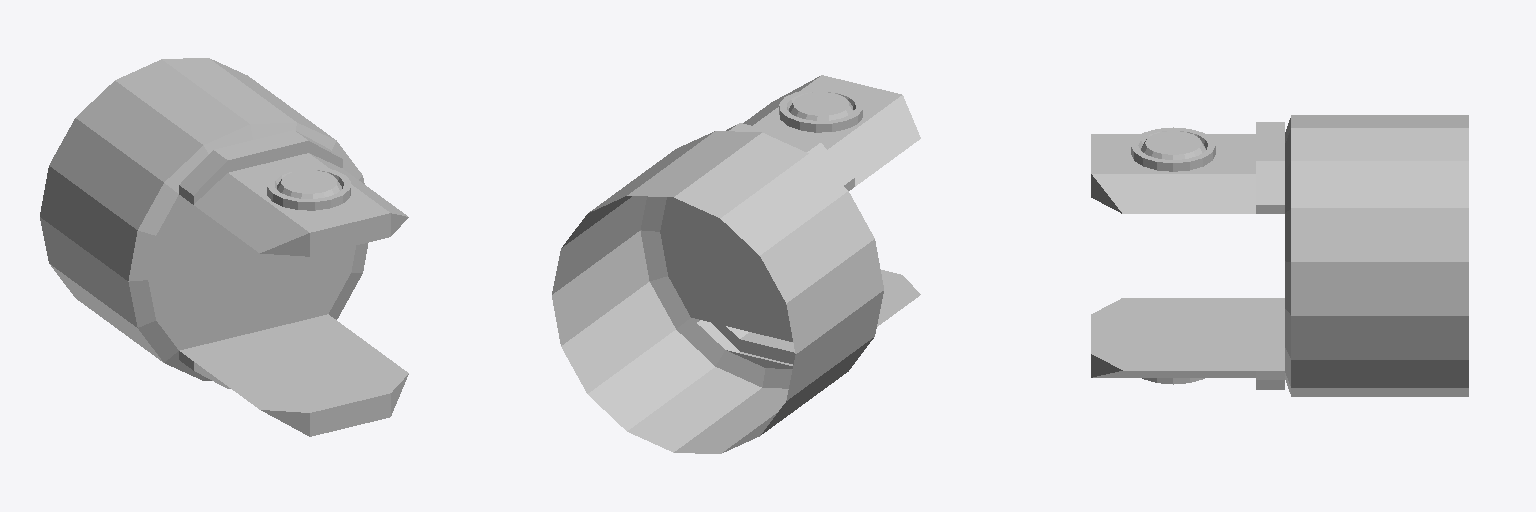
The model's file is Eixo_Missel_R.obj.
3 views of the same model, side by side, from view 1: azimuth 30°, elevation 25°; view 2: azimuth 150°, elevation 25°; view 3: azimuth 270°, elevation 25° (orthographic).
Visible parts, largest first — view 1: Eixo_Missel_R_Trackless_Engine.001_Cylinder.002; view 2: Eixo_Missel_R_Trackless_Engine.001_Cylinder.002; view 3: Eixo_Missel_R_Trackless_Engine.001_Cylinder.002.
Boxes of the visible parts, <box> form: Eixo_Missel_R_Trackless_Engine.001_Cylinder.002: <box>40,58,408,436</box>; Eixo_Missel_R_Trackless_Engine.001_Cylinder.002: <box>552,75,920,453</box>; Eixo_Missel_R_Trackless_Engine.001_Cylinder.002: <box>1091,115,1468,396</box>.
Size of the model in its own units: 0.9923 by 0.9923 by 1.33.